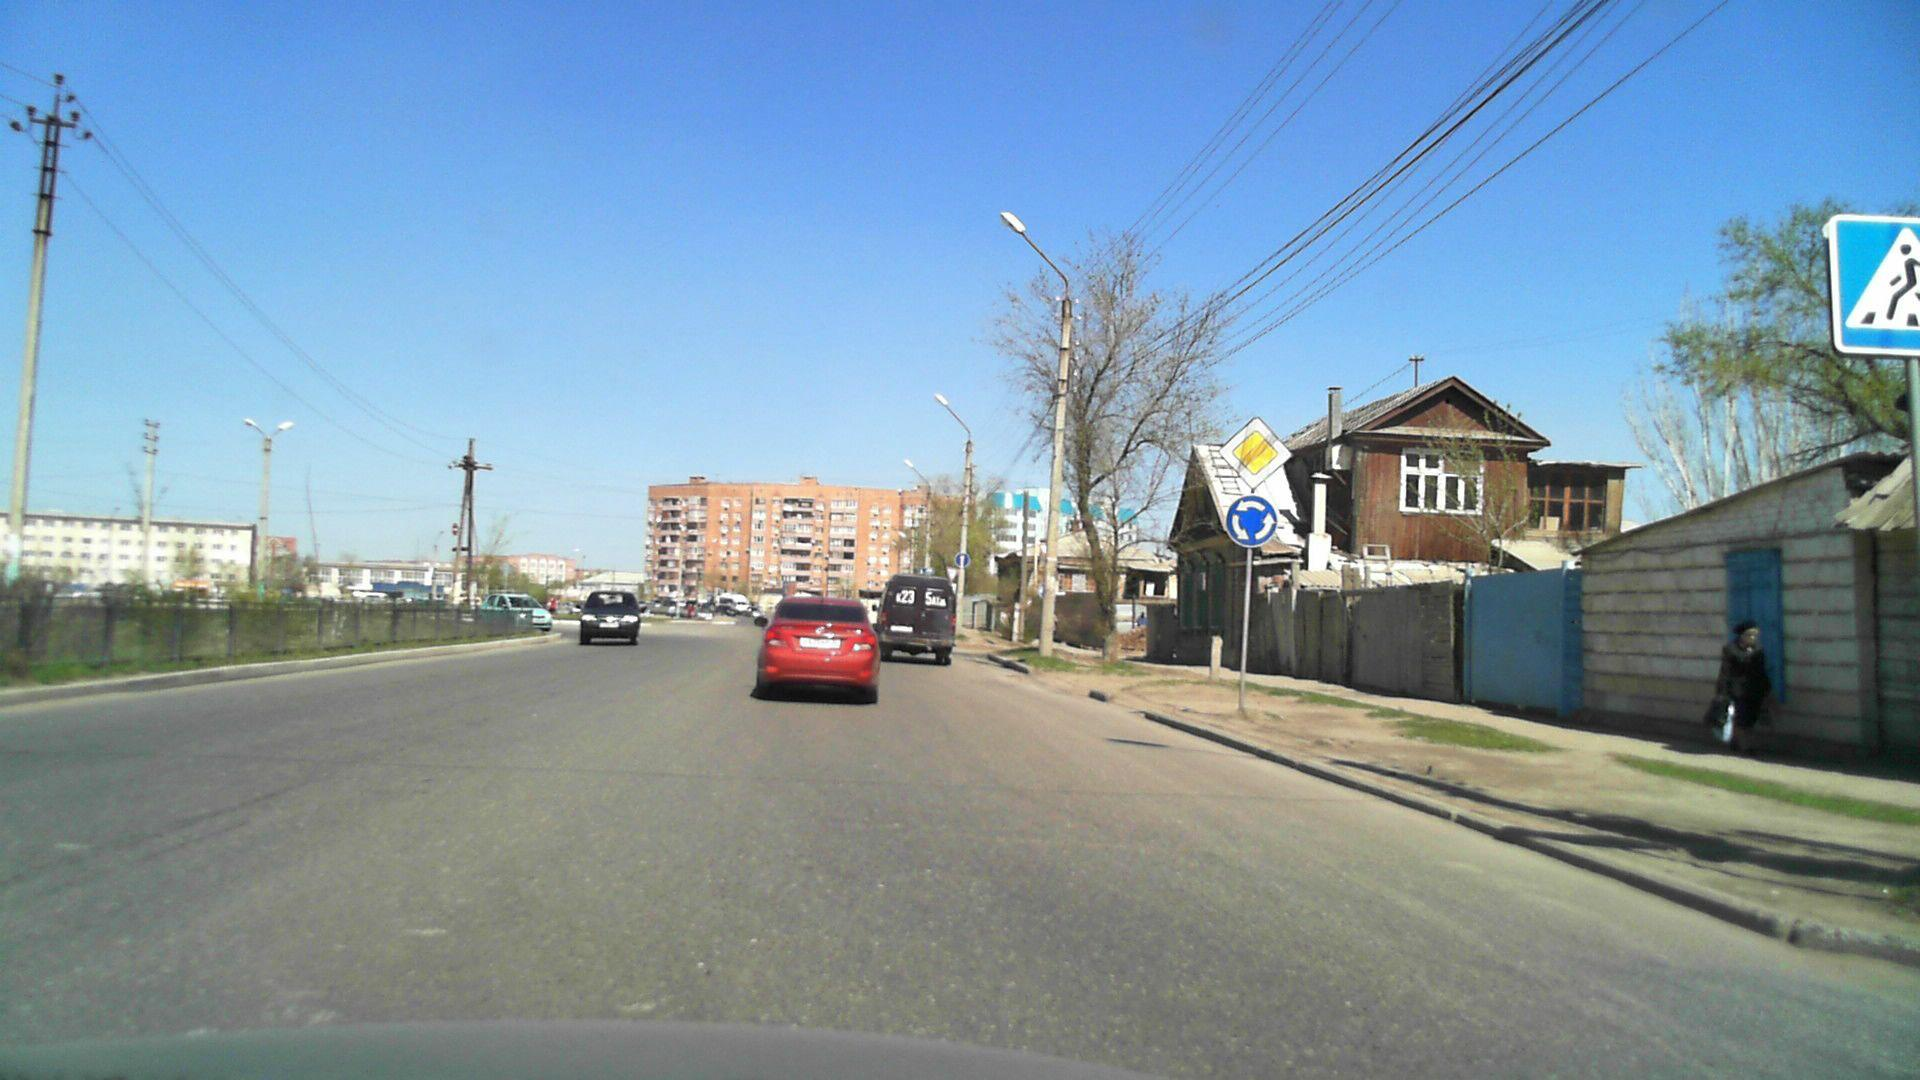2_2: (1220, 415, 1292, 489)
2_4: (947, 567, 959, 580)
3_1: (451, 524, 459, 534)
4_1_1: (953, 551, 971, 568)
4_3: (1224, 493, 1279, 549)
5_19_1: (1824, 218, 1920, 352)
6_15_1: (916, 566, 934, 575)
